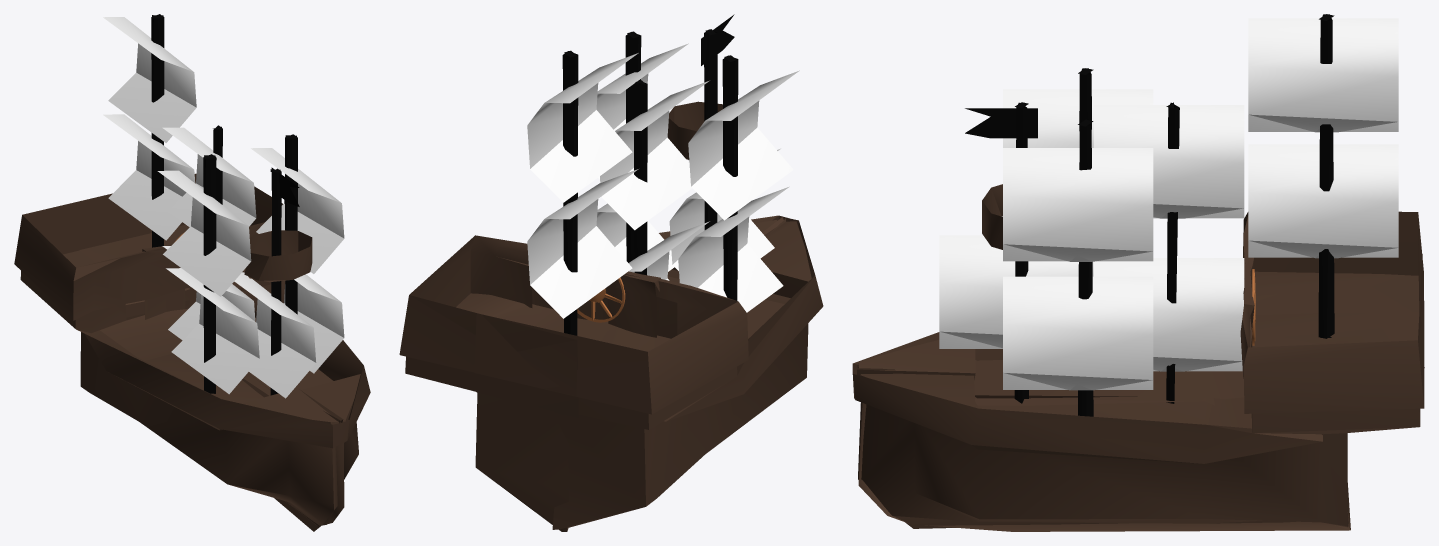
File: piratenschiff2.fbx
The picture shows the model from 3 angles, left to right: view 1: azimuth 30°, elevation 25°; view 2: azimuth 150°, elevation 25°; view 3: azimuth 270°, elevation 25°; orthographic projection. The views are drawn at different scales.
Parts seen in each view (by area): view 1: Symmetrie, Boole_8, Boole_3, Boole_7, Boole, Boole_4, Boole_6, Boole_2, Zylinder_3, Boole_5, Zylinder_5, Zylinder_4 (+4 smaller); view 2: Symmetrie, Boole_4, Boole_3, Boole_8, Boole_2, Boole_7, Zylinder_5, Zylinder_4, Boole, Boole_6, Zylinder_1, Zylinder_3 (+6 smaller); view 3: Symmetrie, Boole_6, Boole_5, Boole_3, Boole_4, Boole_2, Boole_1, Boole, Boole_8, Zylinder_4, Zylinder_1, Zylinder (+4 smaller).
Boxes of the visible parts, bbox=[...] form: Symmetrie: bbox=[14, 173, 370, 531]; Boole_8: bbox=[157, 170, 251, 296]; Boole_3: bbox=[103, 17, 196, 142]; Boole_7: bbox=[166, 268, 259, 394]; Boole: bbox=[234, 272, 316, 398]; Boole_4: bbox=[103, 114, 195, 240]; Boole_6: bbox=[251, 148, 344, 273]; Boole_2: bbox=[162, 127, 256, 227]; Zylinder_3: bbox=[244, 230, 312, 282]; Boole_5: bbox=[283, 274, 344, 373]; Zylinder_5: bbox=[203, 154, 216, 393]; Zylinder_4: bbox=[151, 14, 164, 247]; Symmetrie: bbox=[399, 215, 823, 531]; Boole_4: bbox=[527, 169, 638, 318]; Boole_3: bbox=[527, 53, 638, 202]; Boole_8: bbox=[688, 70, 799, 220]; Boole_2: bbox=[600, 80, 709, 230]; Boole_7: bbox=[678, 186, 789, 312]; Zylinder_5: bbox=[722, 55, 738, 300]; Zylinder_4: bbox=[562, 50, 578, 335]; Boole: bbox=[669, 148, 780, 270]; Boole_6: bbox=[596, 43, 688, 179]; Zylinder_1: bbox=[633, 80, 647, 275]; Zylinder_3: bbox=[667, 101, 722, 159]; Symmetrie: bbox=[852, 211, 1424, 531]; Boole_6: bbox=[1003, 148, 1153, 261]; Boole_5: bbox=[1003, 276, 1153, 390]; Boole_3: bbox=[1248, 18, 1398, 132]; Boole_4: bbox=[1248, 144, 1398, 258]; Boole_2: bbox=[1094, 105, 1244, 218]; Boole_1: bbox=[1094, 258, 1244, 371]; Boole: bbox=[939, 235, 1078, 348]; Boole_8: bbox=[1003, 89, 1153, 147]; Zylinder_4: bbox=[1318, 14, 1334, 338]; Zylinder_1: bbox=[1166, 102, 1179, 403]; Zylinder: bbox=[1078, 119, 1093, 416].
Bounding box in the file's own units: 469 × 762 × 769.
